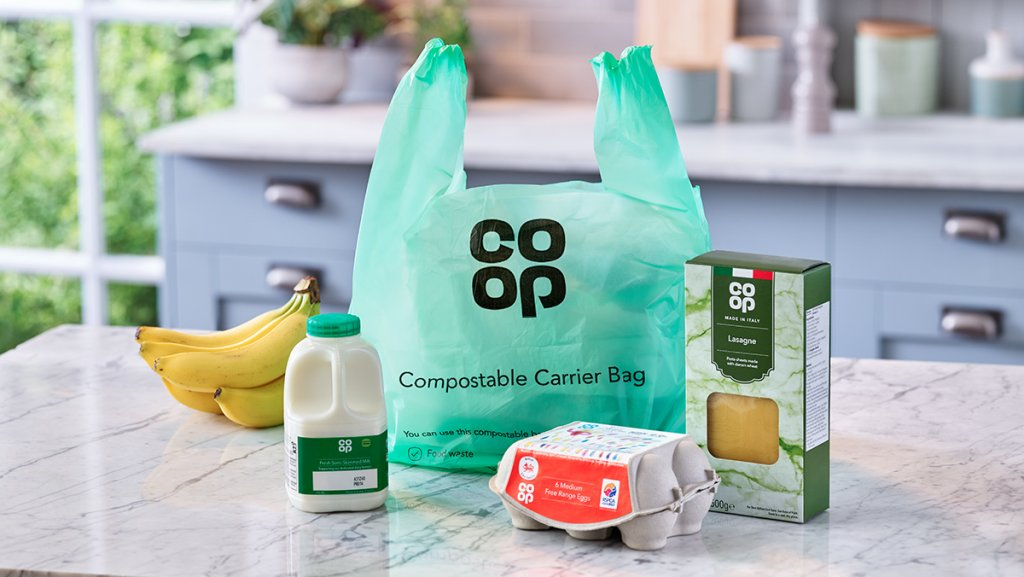plastic_bagwdw: (291, 21, 946, 577)
